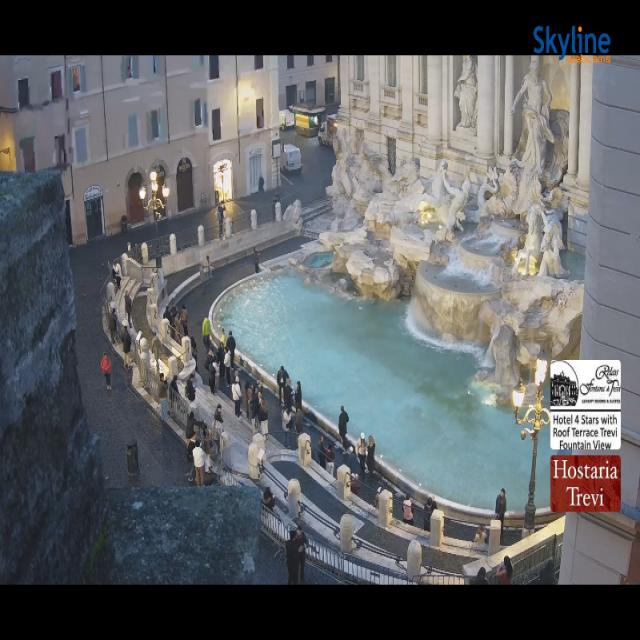person: (285, 530, 299, 584), (296, 525, 308, 583), (187, 435, 199, 482), (192, 443, 205, 485), (186, 411, 205, 439), (212, 404, 223, 452), (496, 489, 506, 540), (158, 372, 168, 421), (356, 433, 367, 476), (276, 366, 288, 404), (202, 429, 212, 474), (496, 556, 512, 584), (168, 375, 179, 415), (344, 446, 359, 475), (424, 496, 436, 531), (232, 376, 242, 418), (339, 406, 348, 451), (539, 560, 555, 584), (101, 352, 111, 390), (259, 397, 268, 438), (251, 386, 259, 432), (283, 408, 292, 448), (216, 344, 224, 388), (208, 359, 218, 394), (325, 442, 335, 476), (123, 326, 131, 368), (403, 493, 413, 525), (167, 310, 177, 341), (109, 309, 118, 343), (317, 435, 326, 469), (367, 436, 375, 474), (262, 488, 275, 511), (185, 373, 195, 402), (293, 409, 303, 438), (245, 380, 252, 419), (470, 568, 487, 584), (227, 331, 235, 365), (284, 379, 292, 412), (203, 317, 211, 350), (181, 304, 189, 336), (224, 349, 231, 385), (218, 202, 225, 238), (112, 263, 121, 290), (174, 313, 182, 343), (294, 381, 302, 411), (125, 292, 132, 326), (351, 473, 361, 496), (474, 525, 486, 543), (191, 336, 197, 371), (204, 256, 211, 284), (204, 349, 213, 370), (372, 488, 381, 509), (170, 374, 179, 394), (253, 248, 259, 272), (221, 329, 227, 348), (259, 175, 264, 191)
